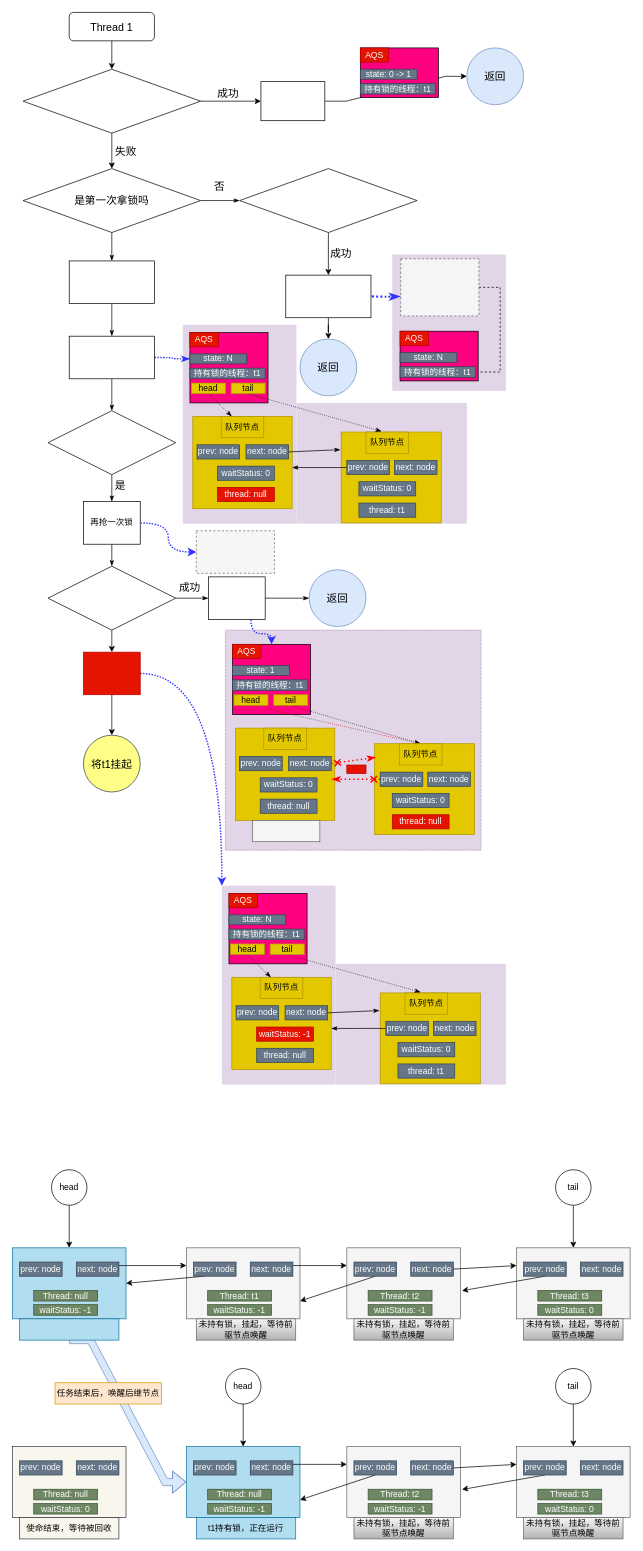
This 643x1551 diagram has some shape labels left out. Here are the shapes that lost their labels. From the top down, the centre of each, then its label:
At (x=111, y=101): "t1 第一次想获取锁".
At (x=292, y=101): "设置t1 为运行线程".
At (x=328, y=200): "第N次想获取锁".
At (x=111, y=282): "将t1构造为一个Node节点".
At (x=328, y=296): "上锁的次数加1".
At (x=439, y=287): "t1 已经获取到锁，还想再次获取锁，直接标记上锁的次数，返回成功。 实现了线程的可重入锁特性".
At (x=111, y=357): "构建队列".
At (x=111, y=442): "t1的前驱节点 是头节点吗".
At (x=235, y=551): "因为在为t1构造节点时，可能锁已经释放了，无需等待，再尝试抢一次锁".
At (x=111, y=598): "是否抢锁成功".
At (x=236, y=597): "调整队列".
At (x=111, y=673): "在t1的前驱节点中标记t1可以被唤醒".
At (x=356, y=769): "断开".
At (x=286, y=831): "该节点已无被引用，会被回收".
At (x=69, y=1329): "持有锁，正在运行".
